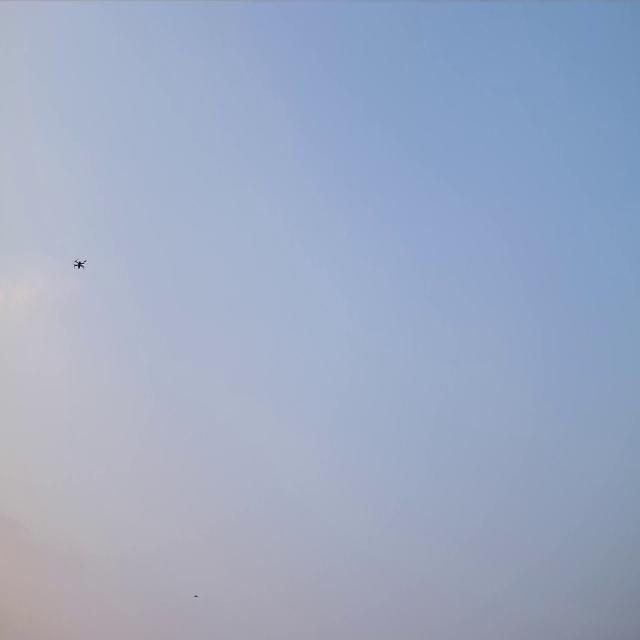UAV: (72, 256, 88, 272)
